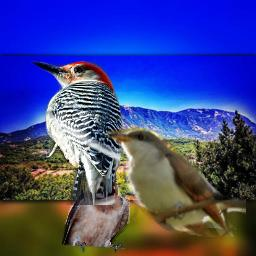Cuckoo: (102, 118, 246, 237)
Swallow: (62, 163, 130, 253)
Woodpecker: (26, 53, 128, 205)
